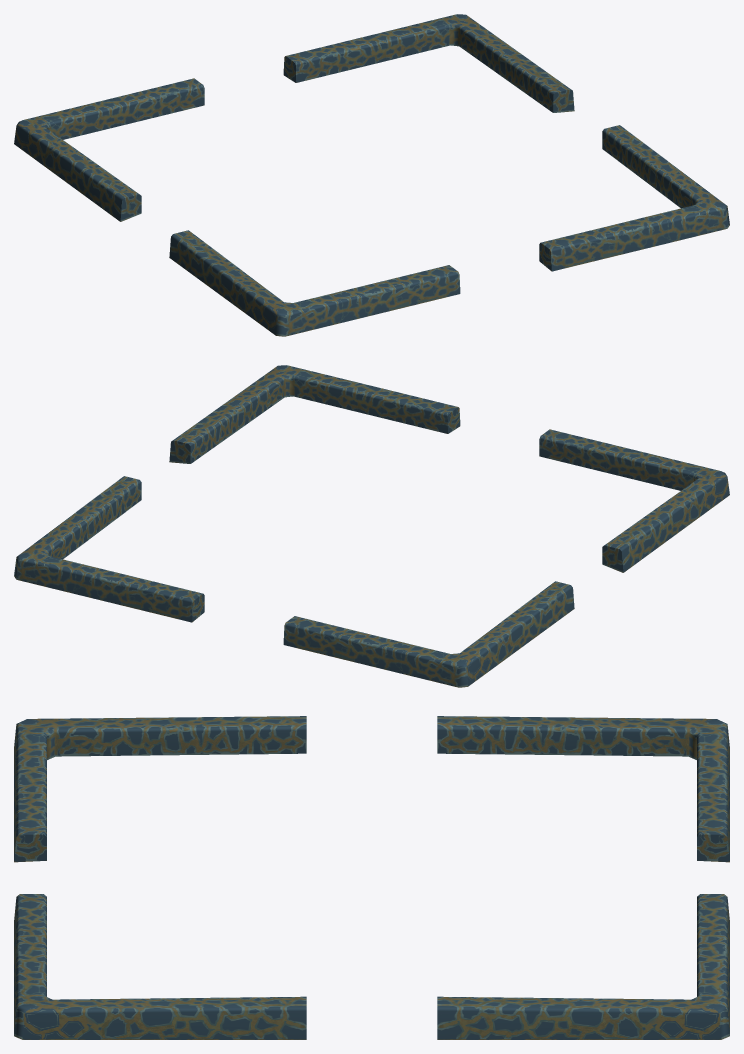
Rendered from Arq_Stonewall.fbx.
3 renders of one model, top to bottom at view 1: azimuth 30°, elevation 25°; view 2: azimuth 150°, elevation 25°; view 3: azimuth 270°, elevation 25°, orthographic. The views are drawn at different scales.
Parts seen in each view (by area): view 1: Stone_Wall_LP; view 2: Stone_Wall_LP; view 3: Stone_Wall_LP.
Boxes of the visible parts, x1,y1,x2,y2 form: Stone_Wall_LP: [14, 14, 729, 336]; Stone_Wall_LP: [14, 365, 729, 687]; Stone_Wall_LP: [14, 716, 729, 1039].
Bounding box in the file's own units: 7.6 × 0.367 × 7.78.
Materials: 1 (1 with a texture image).
